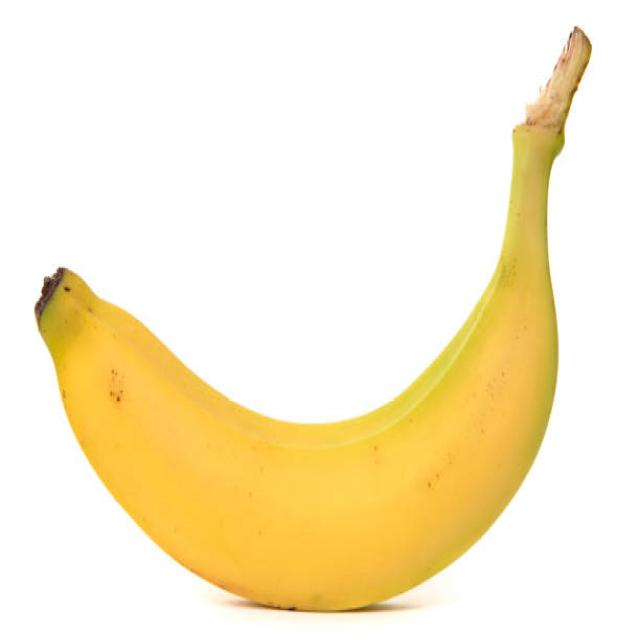banana: (32, 21, 592, 613)
